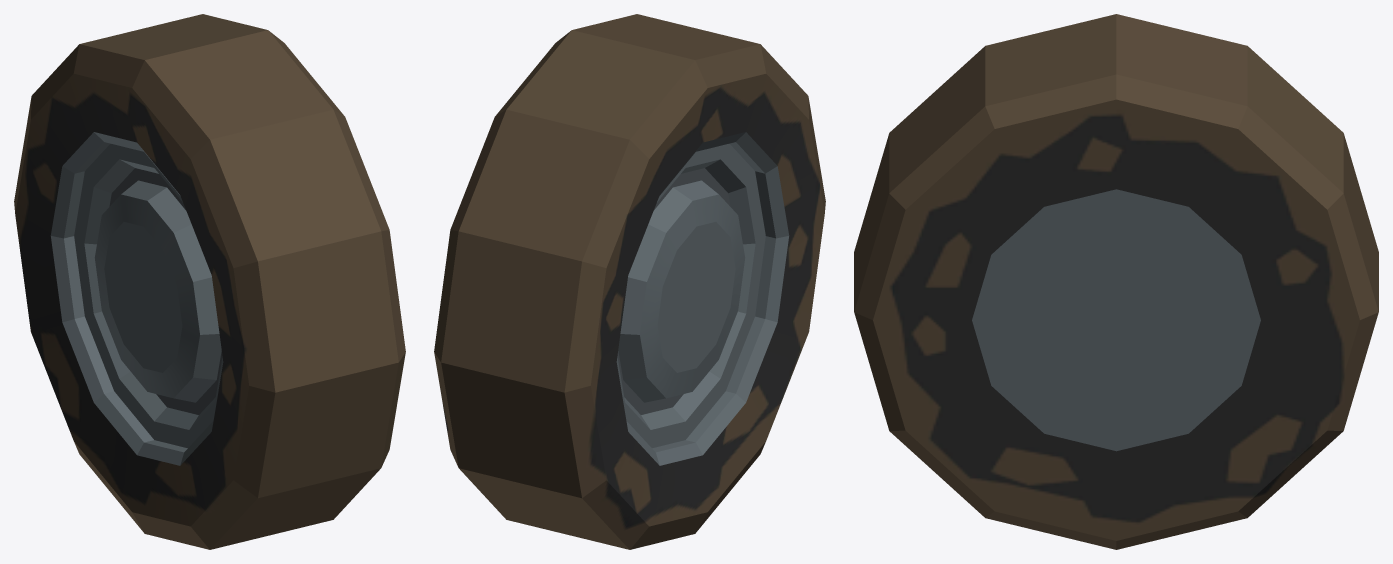
File: SM_Veh_Crane_01_Wheel_fr.obj
3 views of the same model, side by side, from view 1: azimuth 30°, elevation 25°; view 2: azimuth 150°, elevation 25°; view 3: azimuth 270°, elevation 25° (orthographic).
Visible parts, largest first — view 1: SM_Veh_Crane_01_Wheel_fr_0; view 2: SM_Veh_Crane_01_Wheel_fr_0; view 3: SM_Veh_Crane_01_Wheel_fr_0.
Boxes of the visible parts, x1,y1,x2,y2 form: SM_Veh_Crane_01_Wheel_fr_0: (14,14,405,549); SM_Veh_Crane_01_Wheel_fr_0: (434,14,825,549); SM_Veh_Crane_01_Wheel_fr_0: (854,14,1378,549).
Bounding box in the file's own units: 0.5235 × 1.55 × 1.55.
1 material, 1 textured.
